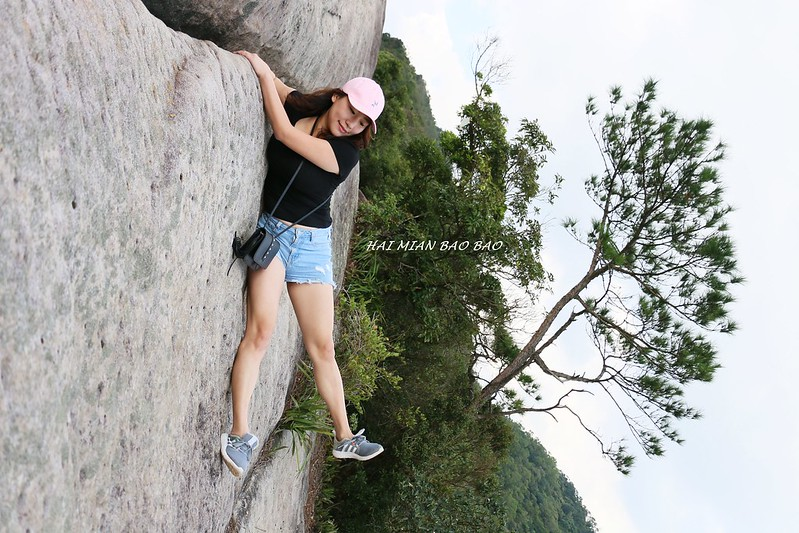people: (234, 45, 389, 469)
